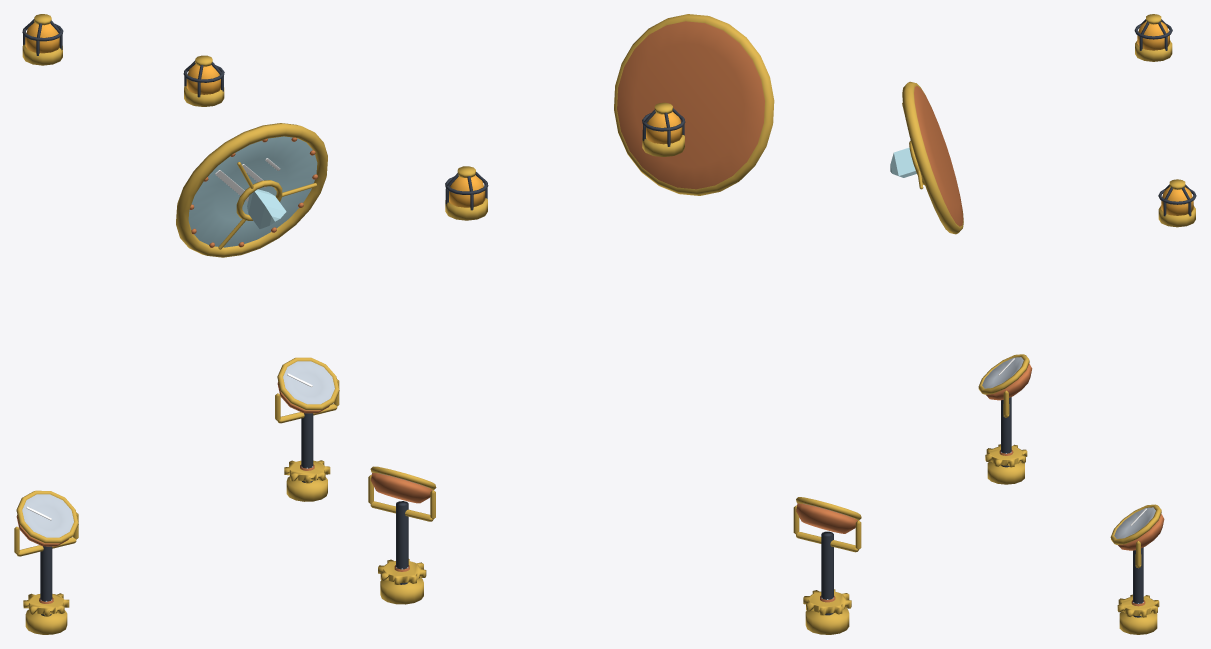
Rendered from SunMirrorTower_T2_Upgrades.fbx.
3 views of the same model, side by side, from view 1: azimuth 30°, elevation 25°; view 2: azimuth 150°, elevation 25°; view 3: azimuth 270°, elevation 25° (orthographic). The views are drawn at different scales.
Parts seen in each view (by area): view 1: SunMirrorTowerT2U1PolishedMirror, SunMirrorTowerT2U3Tracker1, SunMirrorTowerT2U3Tracker2, SunMirrorTowerT2U2Beacon1, SunMirrorTowerT2U2Beacon2, SunMirrorTowerT2U5RainbowLensGlow, SunMirrorTowerT2U5RainbowLens, SunMirrorTowerT2U2Beacon2Glow, SunMirrorTowerT2U2Beacon1Glow, SunMirrorTowerT2U1PolishedMirrorGlow; view 2: SunMirrorTowerT2U1PolishedMirror, SunMirrorTowerT2U3Tracker1, SunMirrorTowerT2U3Tracker2, SunMirrorTowerT2U2Beacon2, SunMirrorTowerT2U2Beacon1, SunMirrorTowerT2U2Beacon1Glow, SunMirrorTowerT2U2Beacon2Glow; view 3: SunMirrorTowerT2U1PolishedMirror, SunMirrorTowerT2U3Tracker2, SunMirrorTowerT2U3Tracker1, SunMirrorTowerT2U2Beacon2, SunMirrorTowerT2U2Beacon1, SunMirrorTowerT2U2Beacon2Glow, SunMirrorTowerT2U2Beacon1Glow, SunMirrorTowerT2U5RainbowLensGlow.
Part boxes in pixels (x1,y1,x2,y2): SunMirrorTowerT2U1PolishedMirror: (176, 123, 327, 257); SunMirrorTowerT2U3Tracker1: (14, 490, 78, 634); SunMirrorTowerT2U3Tracker2: (275, 357, 339, 501); SunMirrorTowerT2U2Beacon1: (22, 14, 63, 65); SunMirrorTowerT2U2Beacon2: (183, 55, 224, 106); SunMirrorTowerT2U5RainbowLensGlow: (247, 189, 286, 228); SunMirrorTowerT2U5RainbowLens: (218, 162, 316, 249); SunMirrorTowerT2U2Beacon2Glow: (186, 64, 220, 94); SunMirrorTowerT2U2Beacon1Glow: (25, 22, 59, 53); SunMirrorTowerT2U1PolishedMirrorGlow: (215, 158, 280, 201); SunMirrorTowerT2U1PolishedMirror: (614, 14, 774, 195); SunMirrorTowerT2U3Tracker1: (793, 497, 861, 634); SunMirrorTowerT2U3Tracker2: (368, 466, 436, 604); SunMirrorTowerT2U2Beacon2: (445, 166, 488, 220); SunMirrorTowerT2U2Beacon1: (642, 102, 685, 156); SunMirrorTowerT2U2Beacon1Glow: (646, 111, 682, 144); SunMirrorTowerT2U2Beacon2Glow: (449, 175, 485, 207); SunMirrorTowerT2U1PolishedMirror: (902, 81, 963, 234); SunMirrorTowerT2U3Tracker2: (1110, 504, 1164, 634); SunMirrorTowerT2U3Tracker1: (978, 354, 1032, 484); SunMirrorTowerT2U2Beacon2: (1158, 179, 1196, 227); SunMirrorTowerT2U2Beacon1: (1134, 14, 1172, 61); SunMirrorTowerT2U2Beacon2Glow: (1161, 187, 1193, 215); SunMirrorTowerT2U2Beacon1Glow: (1137, 22, 1169, 50); SunMirrorTowerT2U5RainbowLensGlow: (890, 147, 916, 177).
Bounding box in the file's own units: 180 × 231 × 130.
